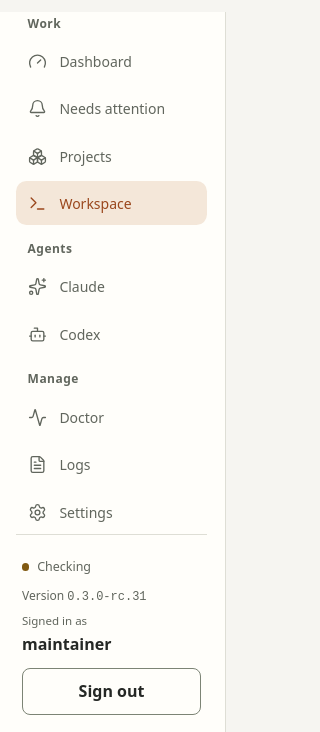
Test: AppShell › uses localized generic logout feedback instead of ApiError.message
(page scrolled)
Expected: the text "0.3.0-rc.31" is shown, [67, 590, 146, 604]
Click the button "Sign out". click: [112, 692]
box: [22, 668, 201, 715]
(page scrolled)
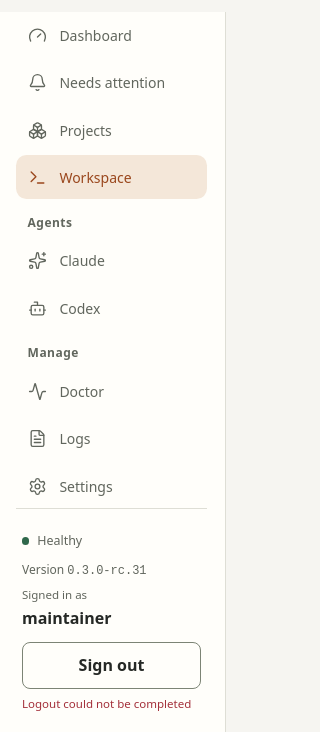
Expected: the text "Logout could not be completed" is shown, [22, 695, 201, 712]
